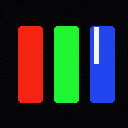4 line_v: (94, 27, 98, 63)
